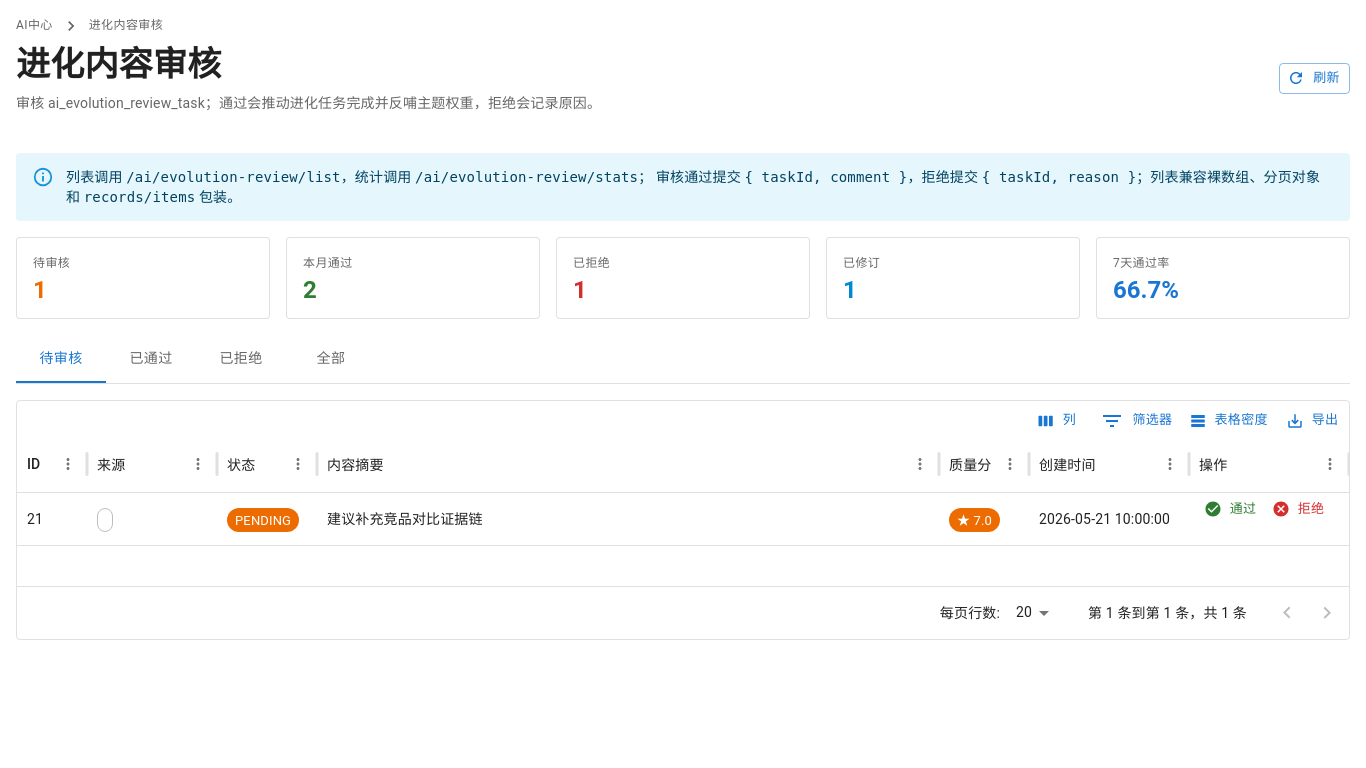
Test: Evolution ops pages › EvolutionReviewPage keeps approve dialog and comment when approve endpoint fails
Expected: the text "建议补充竞品对比证据链" is shown, 327,511 -> 483,527
Click the button "通过". click: [1231, 509]
box: 1199,494 -> 1263,525
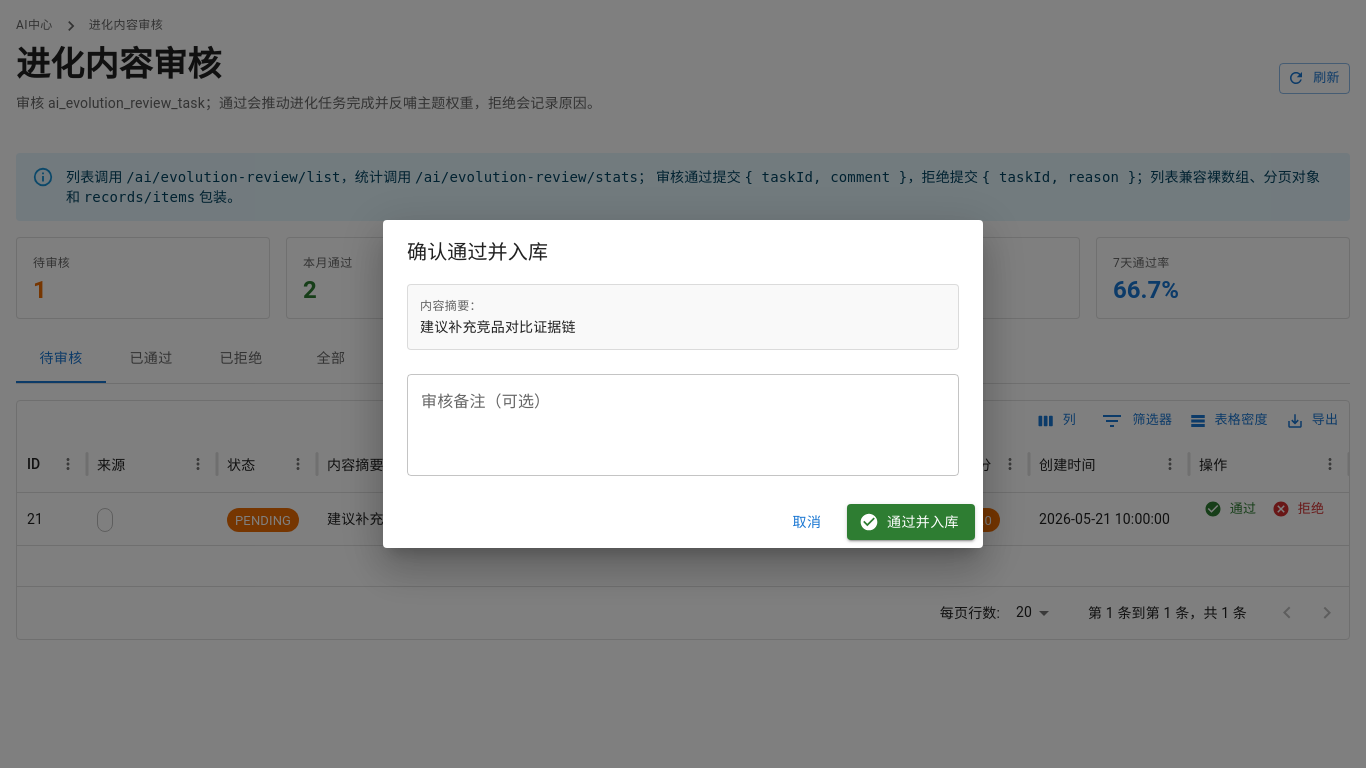
Type "证据链合格" into the text box labelled "审核备注（可选）". click: [683, 425]
box: 421,390 -> 945,459
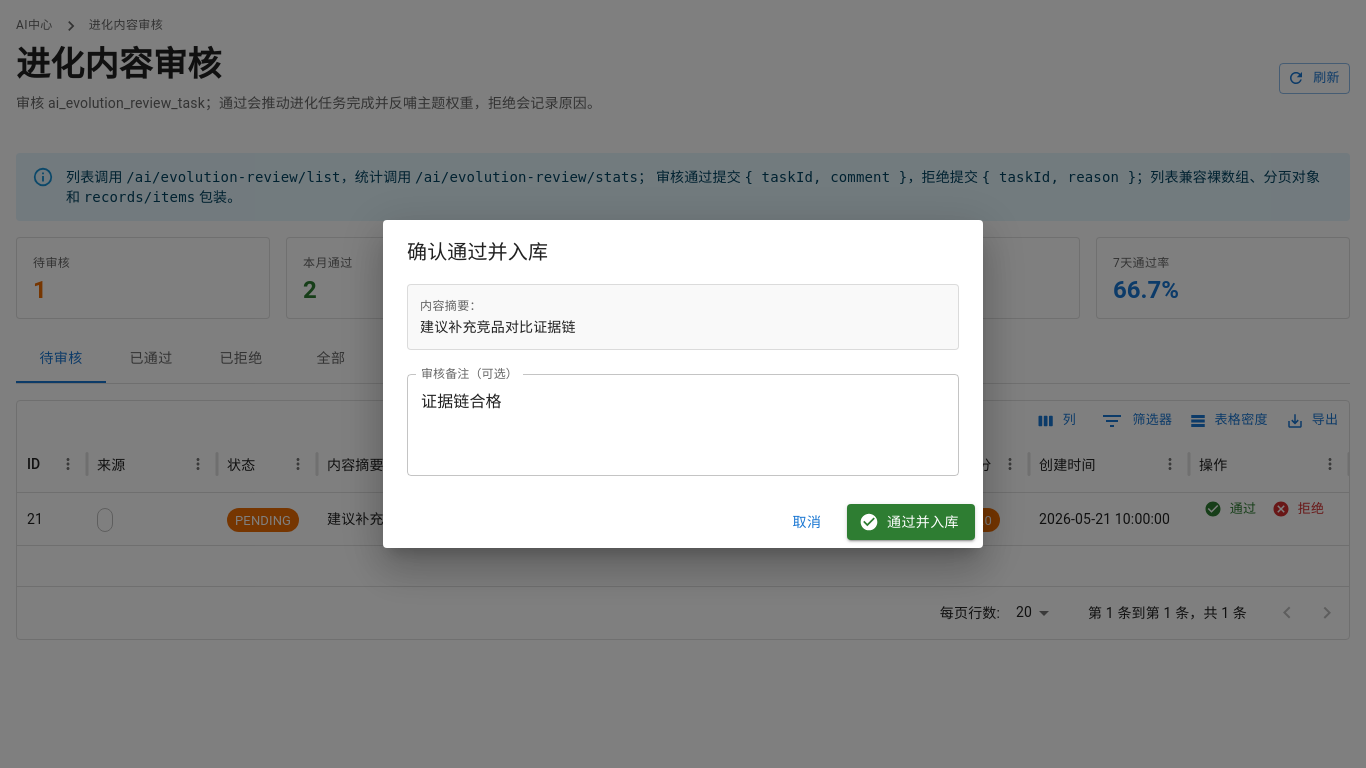
Click the button "通过并入库". click: [911, 522]
box: 847,504 -> 975,540
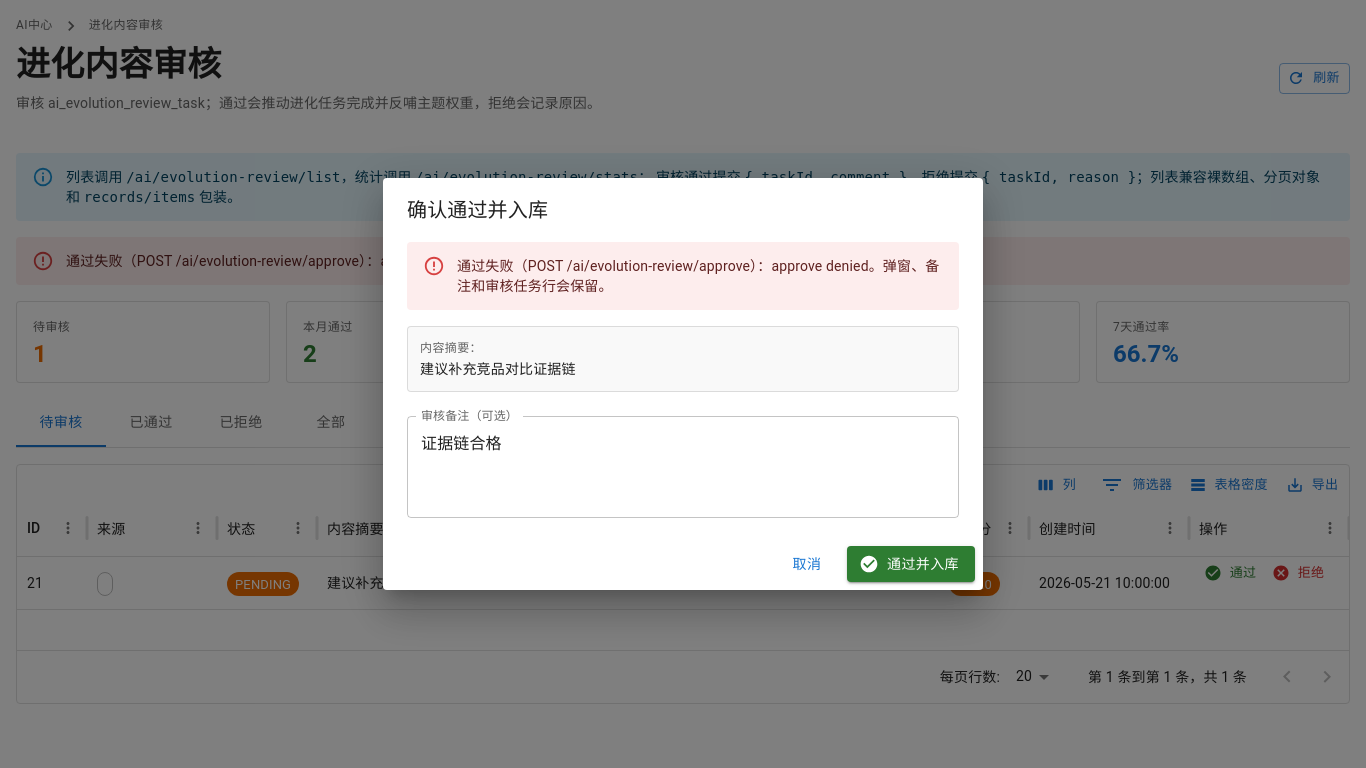
Expected: the text "建议补充竞品对比证据链" is shown, 327,575 -> 483,591
Now the dialog "确认通过并入库" is shown, box 383,178 -> 983,590
Now the text "通过失败（POST /ai/evolution-review/approve）：approve denied" below "records/items" is shown, box 66,253 -> 704,269
